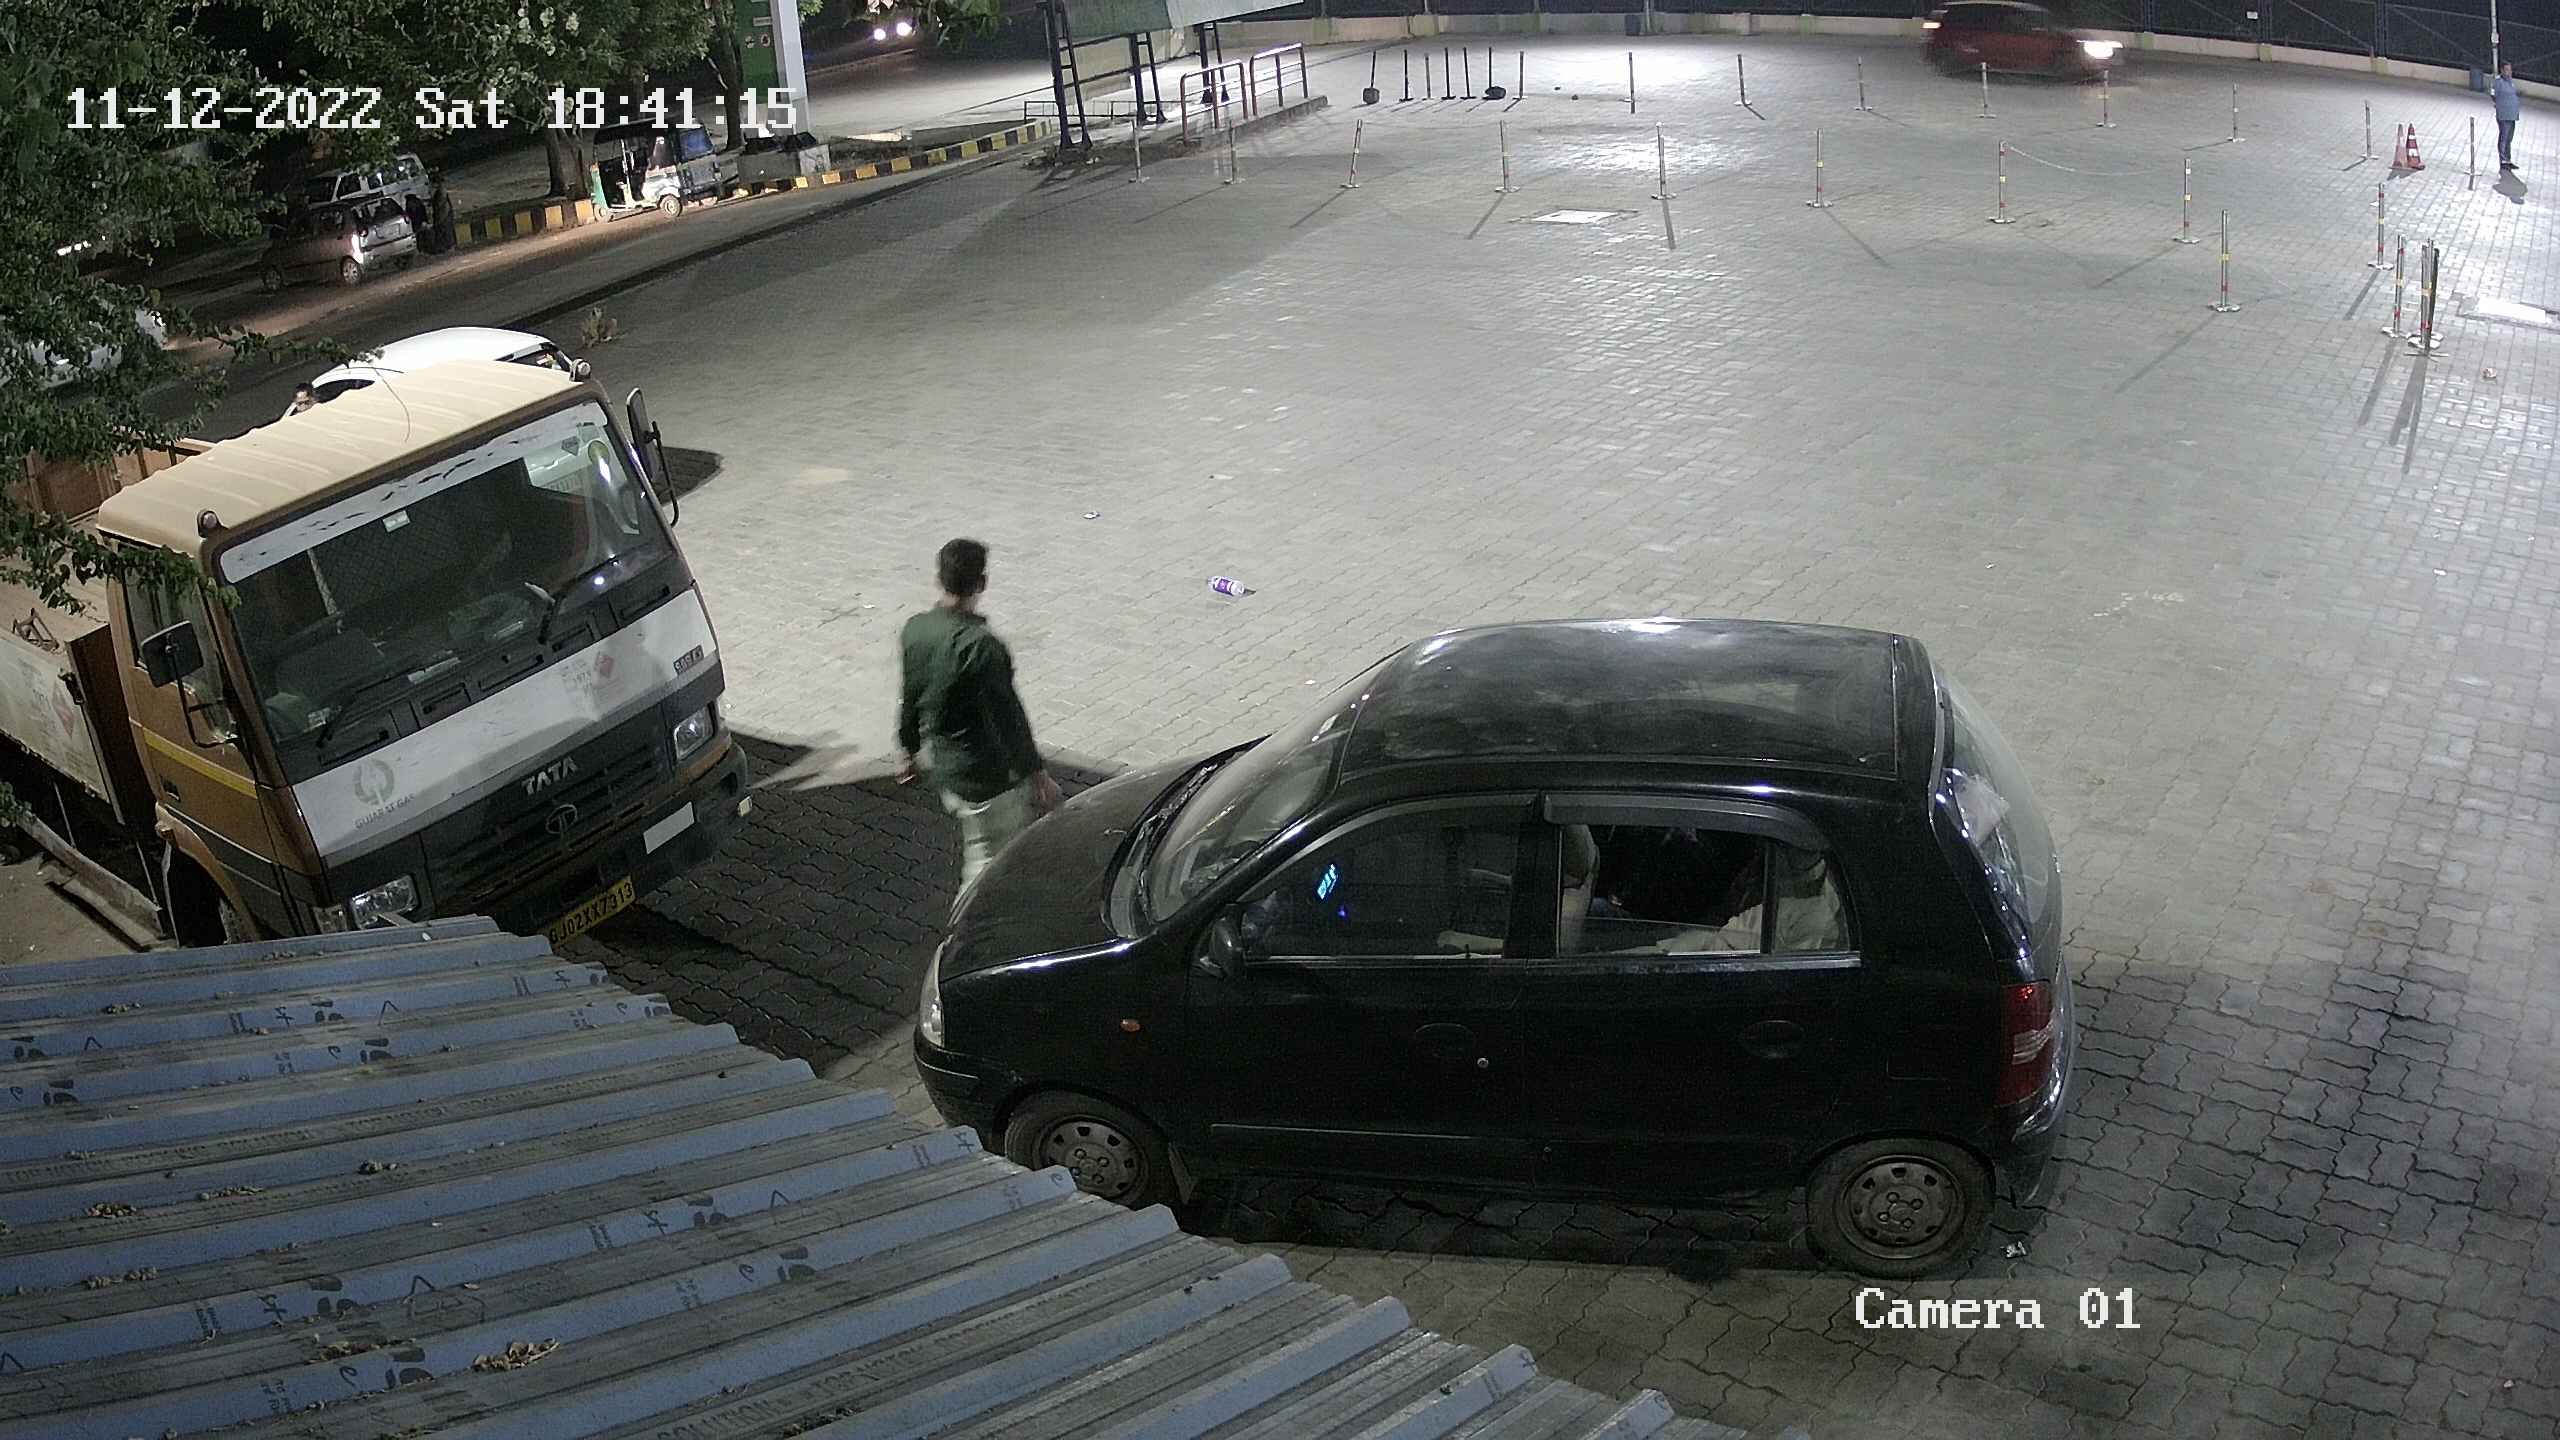Auto: (570, 97, 731, 234)
Car: (891, 598, 2094, 1285), (239, 309, 631, 445), (4, 255, 186, 408), (246, 178, 431, 292), (1904, 0, 2136, 90), (271, 139, 448, 230)
HMV: (0, 343, 760, 965)
